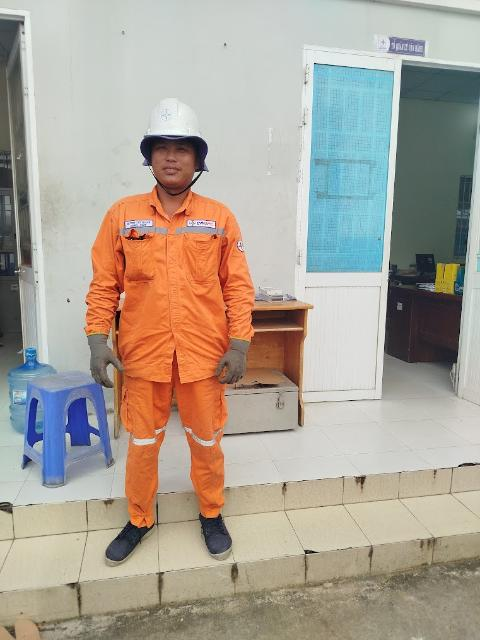gloves: (76, 321, 134, 397), (214, 330, 255, 390)
helmet: (139, 94, 212, 144)
shoes: (193, 504, 242, 565), (100, 521, 161, 567)
